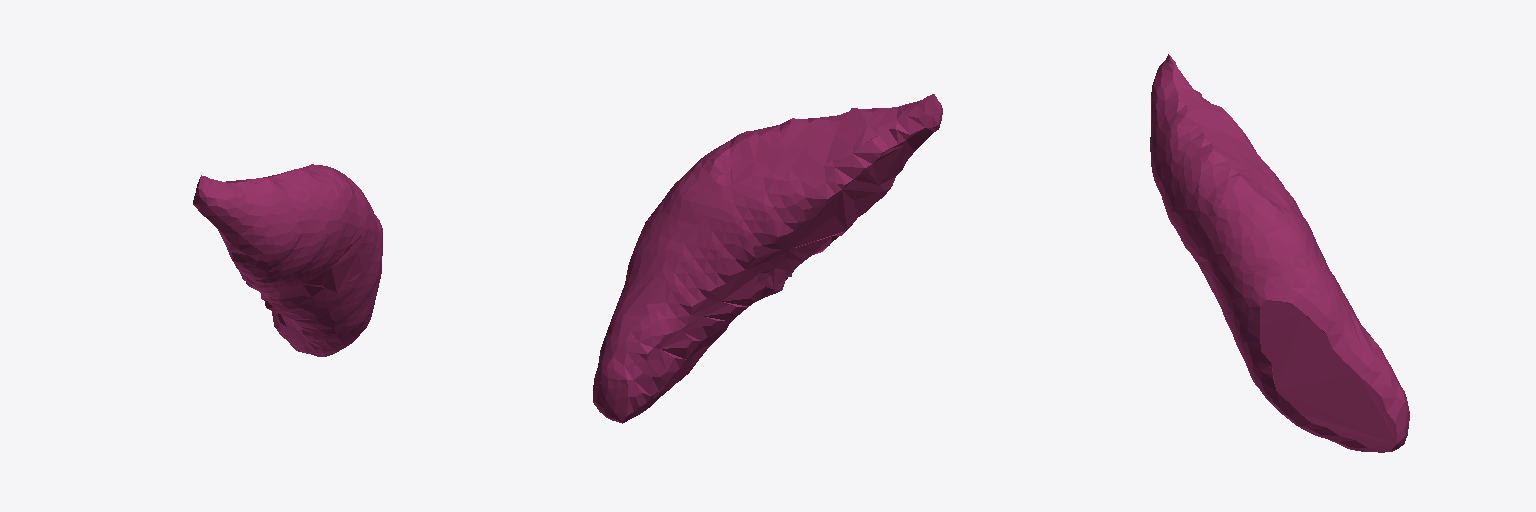
File: Model_10557_LH__Gracile_nucleus_(Gr).obj
The picture shows the model from 3 angles: view 1: azimuth 30°, elevation 25°; view 2: azimuth 150°, elevation 25°; view 3: azimuth 270°, elevation 25°; orthographic projection.
Size of the model in its own units: 1.96 by 2.38 by 1.88.